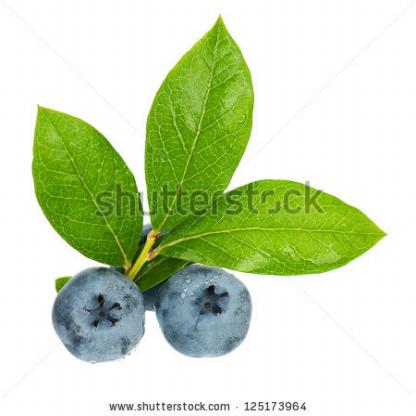Blueberry leaf: (145, 9, 255, 238), (173, 185, 401, 284), (25, 98, 148, 276)
